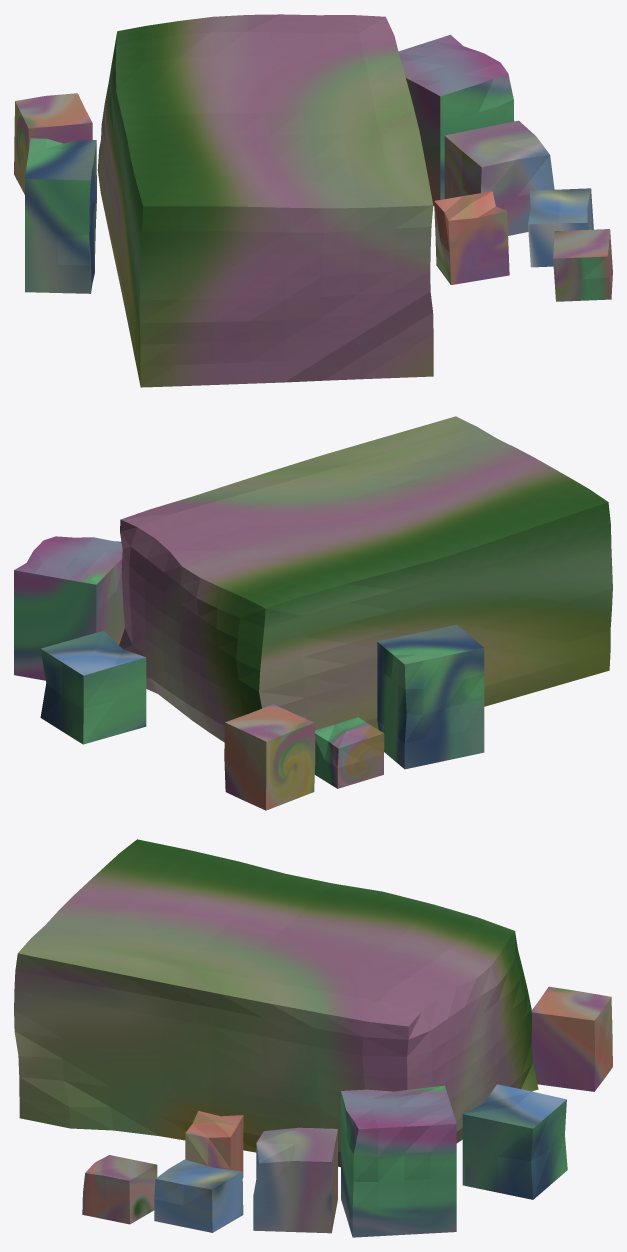
The model's file is gifts.glb.
3 views of the same model, one above another, from view 1: azimuth 30°, elevation 25°; view 2: azimuth 150°, elevation 25°; view 3: azimuth 270°, elevation 25° (orthographic). The views are drawn at different scales.
Parts seen in each view (by area): view 1: Cube.008; view 2: Cube.008; view 3: Cube.008.
Boxes of the visible parts, left/top/right/bottom form: Cube.008: left=14, top=14, right=612, bottom=387; Cube.008: left=14, top=416, right=612, bottom=810; Cube.008: left=14, top=839, right=612, bottom=1237.
Size of the model in its own units: 18.34 by 6.55 by 20.18.
1 material, 1 textured.
